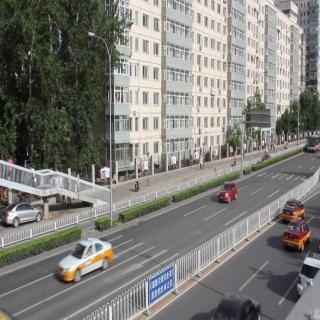Car: (59, 239, 113, 280), (212, 291, 256, 320), (4, 201, 44, 230), (282, 218, 309, 251), (283, 196, 303, 220), (217, 180, 238, 202)
